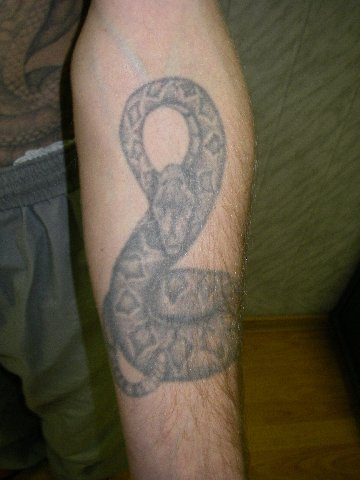tatu7_zmeya: (74, 52, 250, 383)
